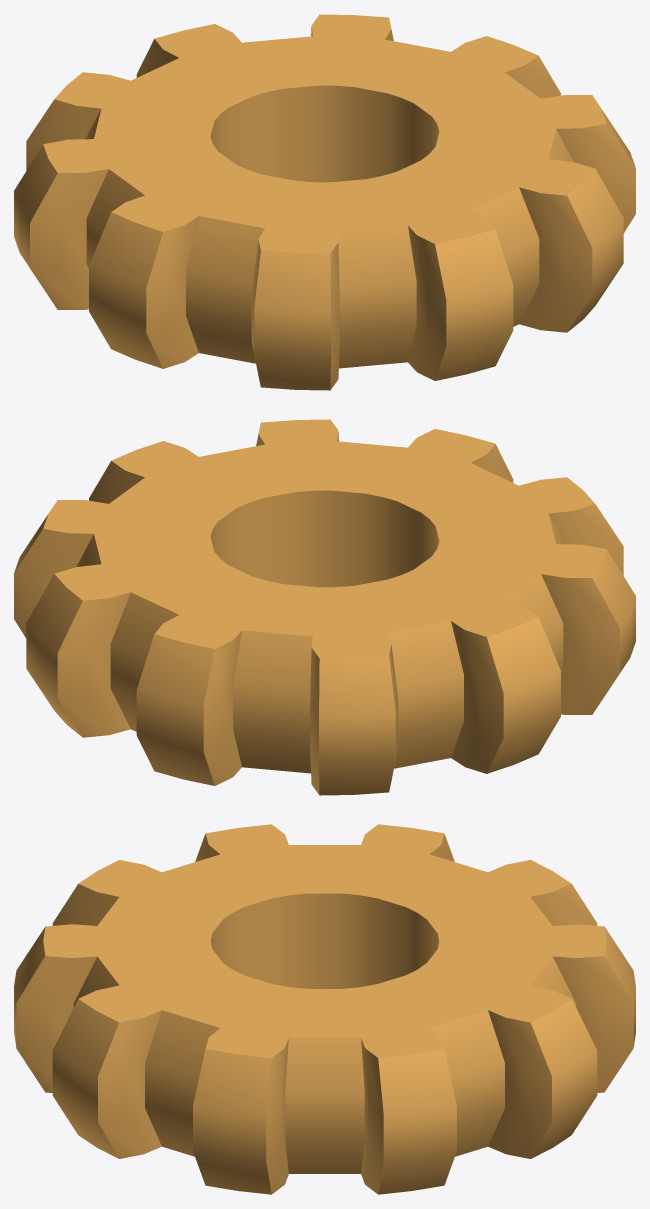
The model's file is Gear_10P_02.fbx.
The picture shows the model from 3 angles, top to bottom: view 1: azimuth 30°, elevation 25°; view 2: azimuth 150°, elevation 25°; view 3: azimuth 270°, elevation 25°; orthographic projection.
Parts seen in each view (by area): view 1: Gear_10P_02; view 2: Gear_10P_02; view 3: Gear_10P_02.
Part boxes in pixels (x1=…): Gear_10P_02: x1=14, y1=14, x2=635, y2=390; Gear_10P_02: x1=14, y1=419, x2=635, y2=795; Gear_10P_02: x1=14, y1=824, x2=635, y2=1194.
Bounding box in the file's own units: 405 × 100 × 413.
